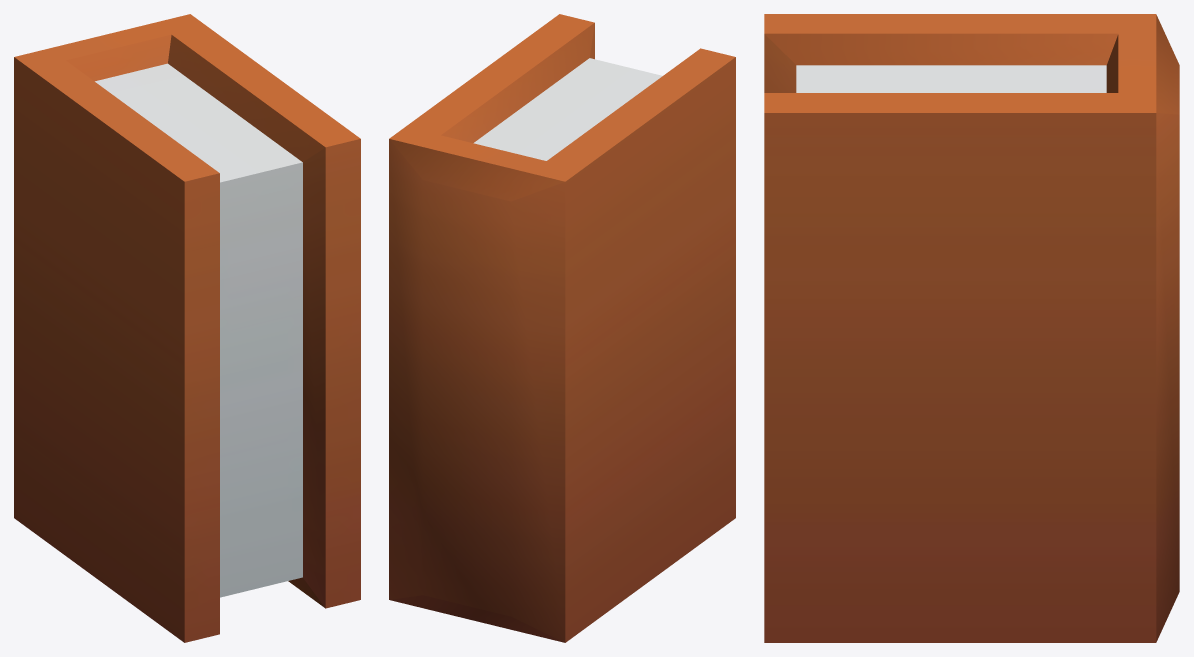
File: book_brown.glb
3 renders of one model, left to right at view 1: azimuth 30°, elevation 25°; view 2: azimuth 150°, elevation 25°; view 3: azimuth 270°, elevation 25°, orthographic. The views are drawn at different scales.
Parts seen in each view (by area): view 1: book_brown; view 2: book_brown; view 3: book_brown.
Boxes of the visible parts, x1,y1,x2,y2 form: book_brown: [14, 14, 360, 642]; book_brown: [389, 14, 735, 642]; book_brown: [764, 14, 1179, 642].
Bounding box in the file's own units: 0.2 × 0.5 × 0.355.
1 material, 1 textured.
